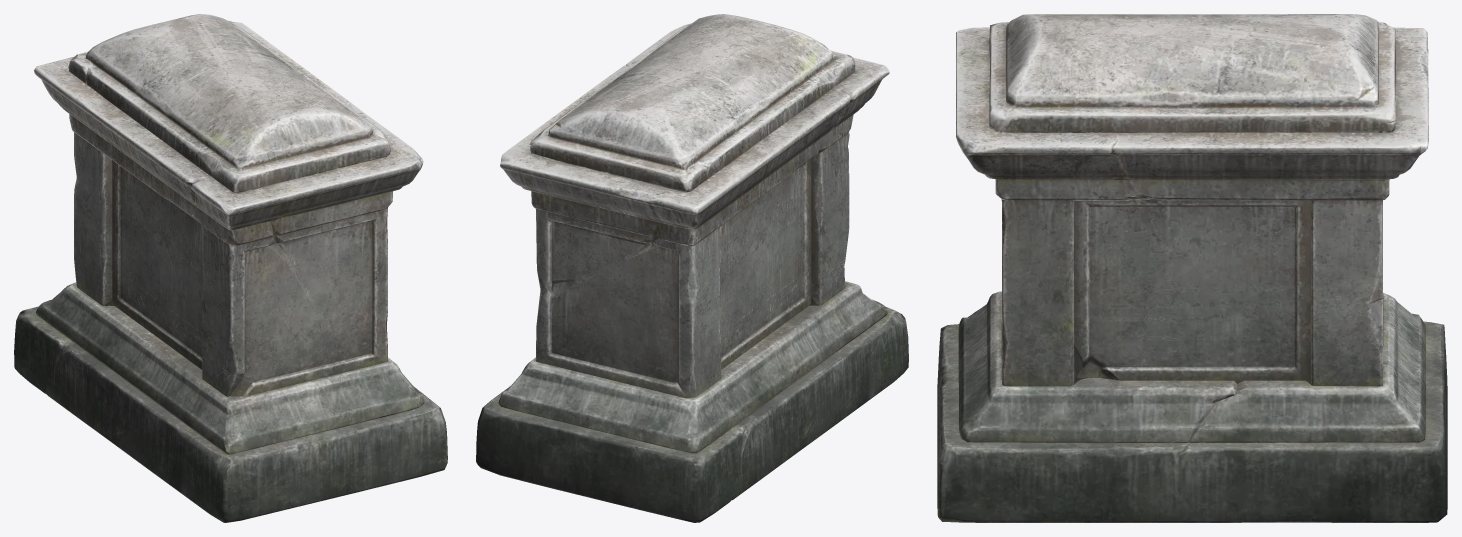
3 views of the same model, side by side, from view 1: azimuth 30°, elevation 25°; view 2: azimuth 150°, elevation 25°; view 3: azimuth 270°, elevation 25° (orthographic). The views are drawn at different scales.
Parts seen in each view (by area): view 1: SM_Coffin_02v1_LOD0; view 2: SM_Coffin_02v1_LOD0; view 3: SM_Coffin_02v1_LOD0.
Boxes of the visible parts, x1,y1,x2,y2 form: SM_Coffin_02v1_LOD0: (14,14,447,522); SM_Coffin_02v1_LOD0: (476,14,908,522); SM_Coffin_02v1_LOD0: (937,14,1447,522).
Bounding box in the file's own units: 1.85 × 2.77 × 2.99.
1 material, 1 textured.
